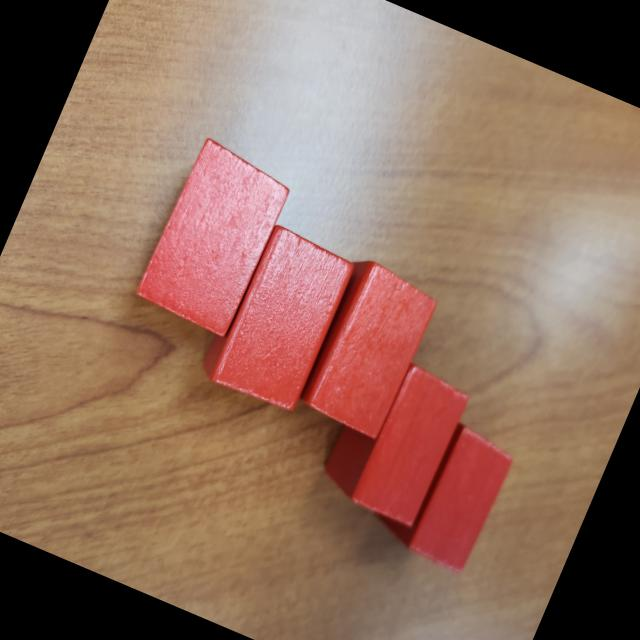red: (130, 137, 298, 340), (195, 219, 364, 420), (314, 347, 472, 528), (295, 255, 444, 441), (401, 421, 520, 578)
